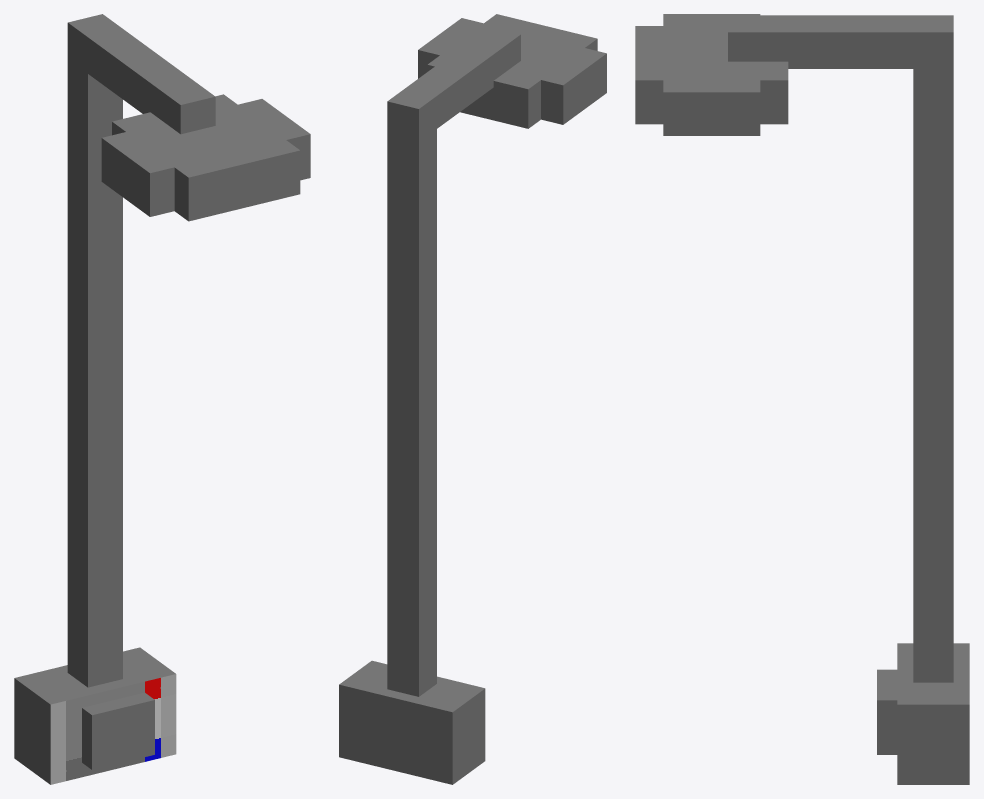
File: wall_shower.glb
3 renders of one model, left to right at view 1: azimuth 30°, elevation 25°; view 2: azimuth 150°, elevation 25°; view 3: azimuth 270°, elevation 25°, orthographic. The views are drawn at different scales.
Parts seen in each view (by area): view 1: wall_shower_Shower_Pipe_Assembly, wall_shower_Shower_Head, wall_shower_Temperature_Control; view 2: wall_shower_Shower_Pipe_Assembly, wall_shower_Shower_Head; view 3: wall_shower_Shower_Pipe_Assembly, wall_shower_Shower_Head, wall_shower_Temperature_Control.
Part boxes in pixels (bbox=[...]): wall_shower_Shower_Pipe_Assembly: bbox=[14, 14, 215, 784]; wall_shower_Shower_Head: bbox=[101, 94, 310, 221]; wall_shower_Temperature_Control: bbox=[82, 692, 154, 769]; wall_shower_Shower_Pipe_Assembly: bbox=[339, 26, 520, 784]; wall_shower_Shower_Head: bbox=[418, 14, 606, 128]; wall_shower_Shower_Pipe_Assembly: bbox=[728, 15, 969, 784]; wall_shower_Shower_Head: bbox=[635, 14, 788, 135]; wall_shower_Temperature_Control: bbox=[877, 669, 897, 754].
Size of the model in its own units: 0.23 by 1 by 0.415.
1 material, 1 textured.
